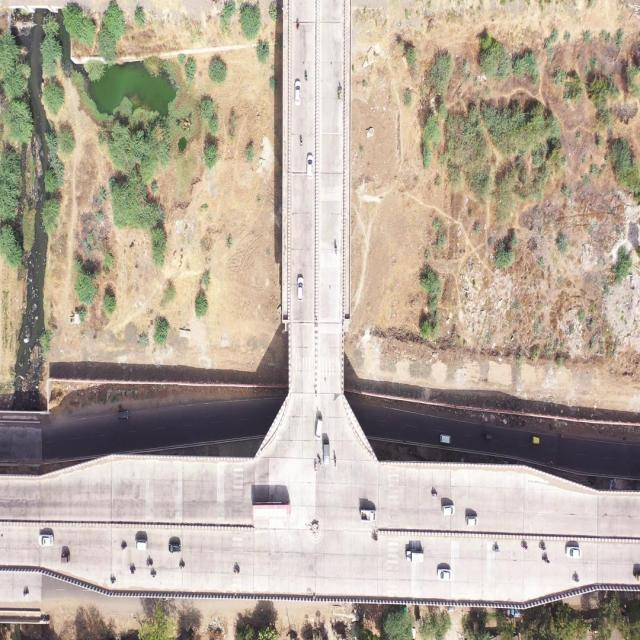3W: (58, 552, 72, 566)
Bus: (250, 493, 298, 526)
Cars: (562, 540, 585, 566), (304, 146, 316, 187), (292, 72, 303, 116), (434, 560, 455, 583), (36, 528, 55, 551), (116, 405, 133, 425), (296, 274, 307, 301), (167, 538, 184, 555), (440, 501, 455, 519), (323, 439, 331, 472), (314, 415, 324, 441), (134, 534, 148, 552), (465, 513, 480, 527)
LCV: (404, 541, 428, 565), (359, 502, 378, 527)
M2W: (296, 127, 306, 153), (369, 530, 381, 549), (332, 235, 340, 262), (302, 64, 312, 84), (108, 569, 119, 587), (539, 553, 554, 566), (537, 536, 549, 552), (230, 562, 243, 576), (570, 568, 582, 583), (21, 583, 32, 599), (119, 539, 129, 555), (491, 540, 504, 552), (431, 483, 439, 502), (148, 568, 159, 580), (177, 558, 187, 571), (520, 538, 530, 551), (129, 562, 138, 576), (312, 458, 319, 476), (332, 450, 338, 470), (316, 450, 322, 470), (294, 15, 300, 34), (144, 556, 154, 566)
